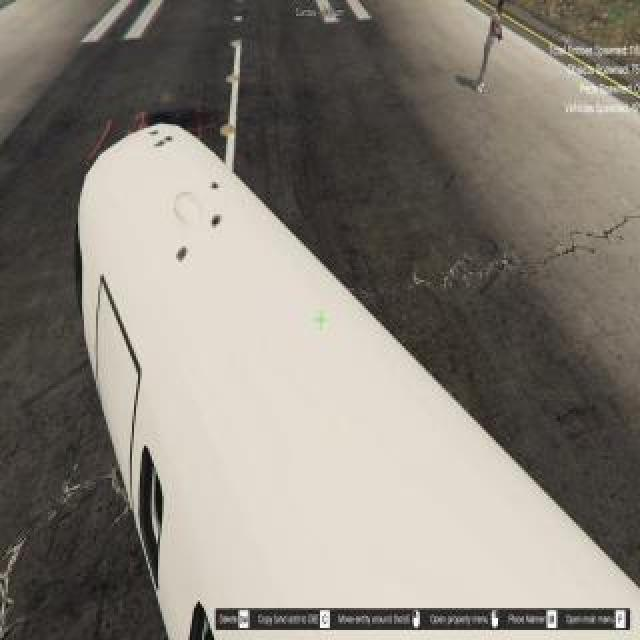crack: (210, 210, 224, 236), (176, 244, 192, 266), (210, 177, 222, 195), (153, 140, 167, 150), (166, 133, 176, 145), (150, 128, 162, 138)
